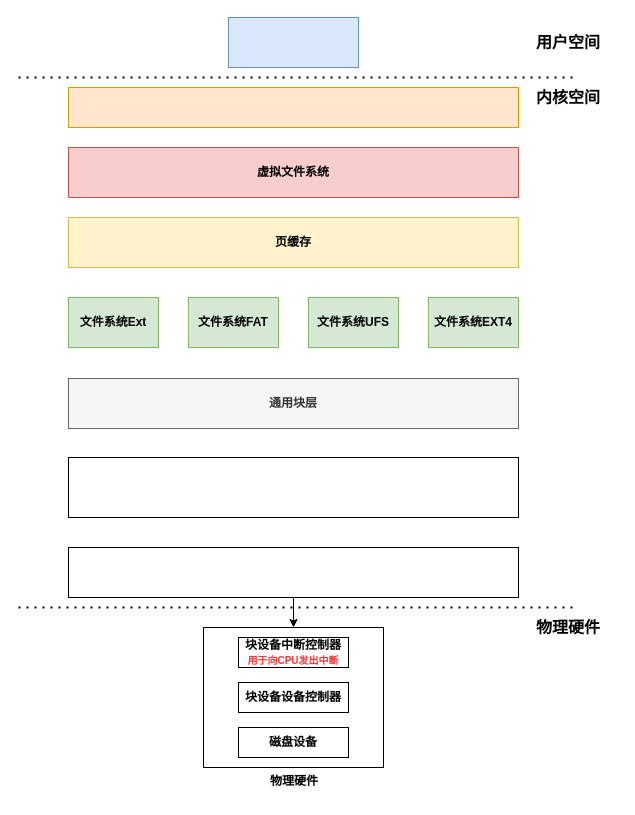
This 635x815 diagram has some shape labels left out. Each missing label, with the centre of its shape:
IO调度层: the point at 293,487
块设备驱动器: the point at 293,572
应用程序: the point at 293,42
系统调用接口: the point at 293,107
